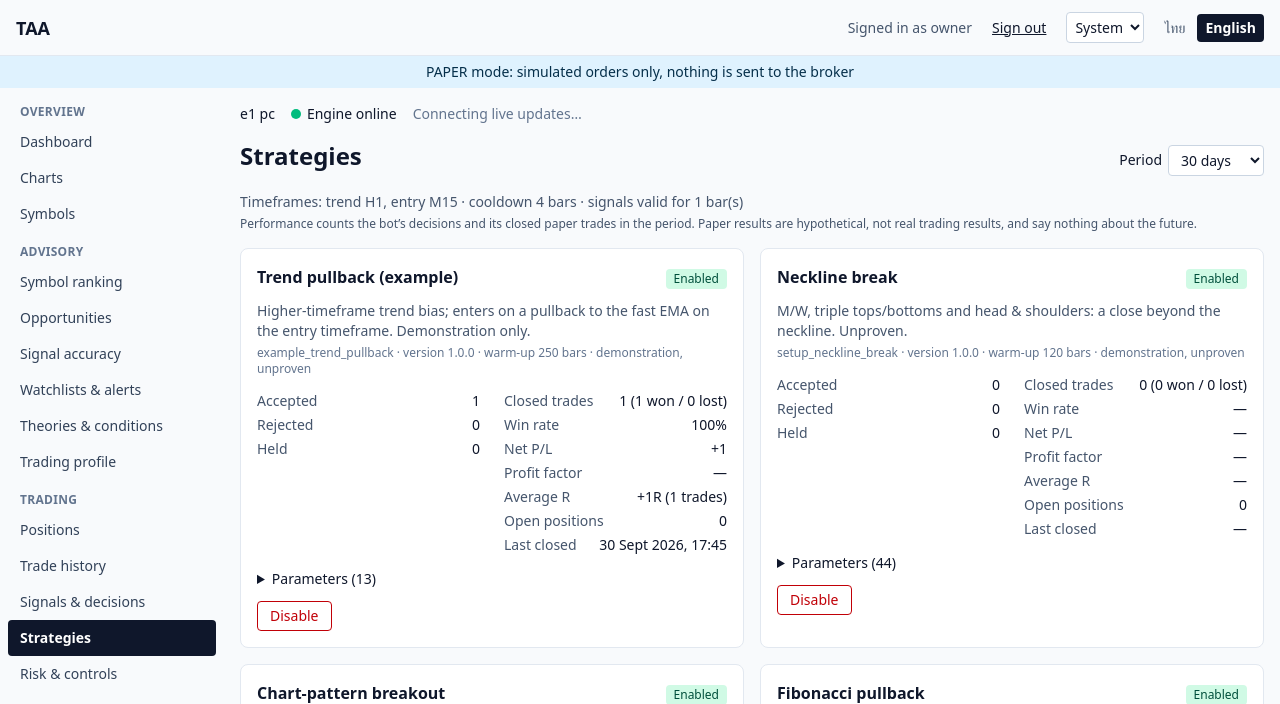
Scenario: strategies page › disables a strategy after a fresh authenticator code
Expected: the element "Trend pullback (example)" shows "example_trend_pullback", [257,344,683,376]
Click the button "Disable" below "Parameters (13)" at [294, 616], box [257,600,332,630]
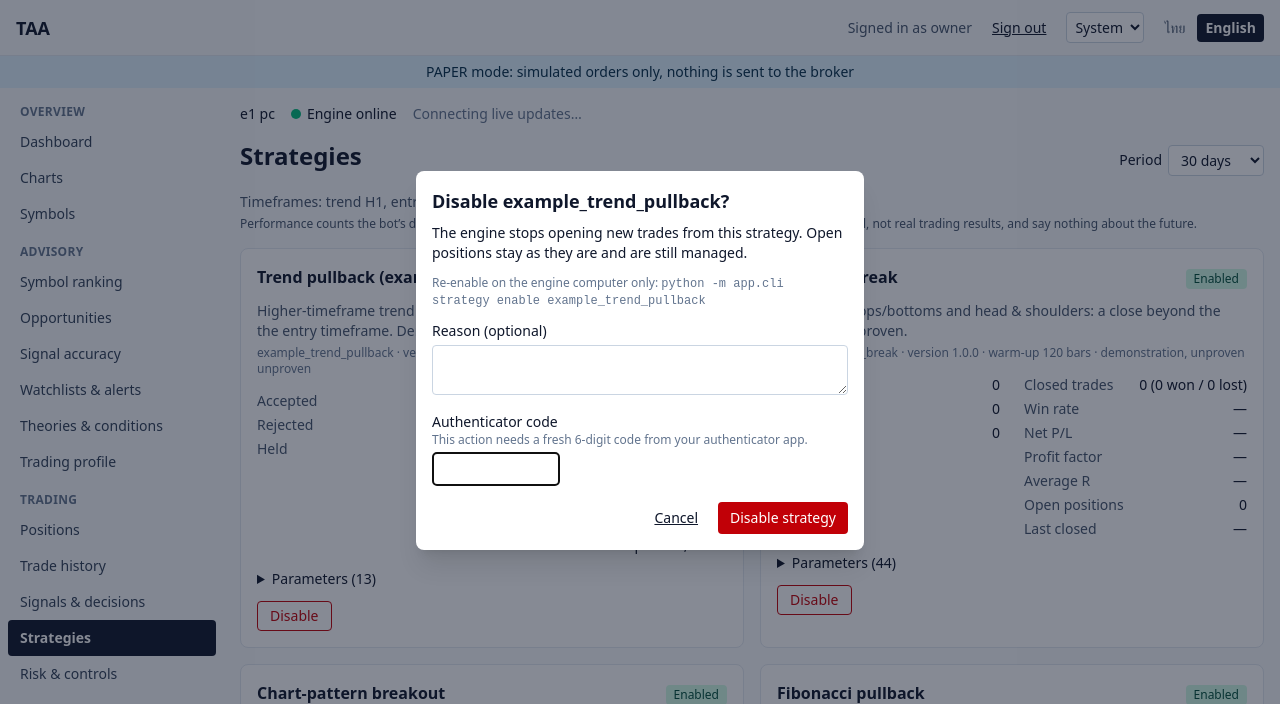
Type " too many losses " into the text box labelled "Reason (optional)" at [640, 370], box [432,344,848,394]
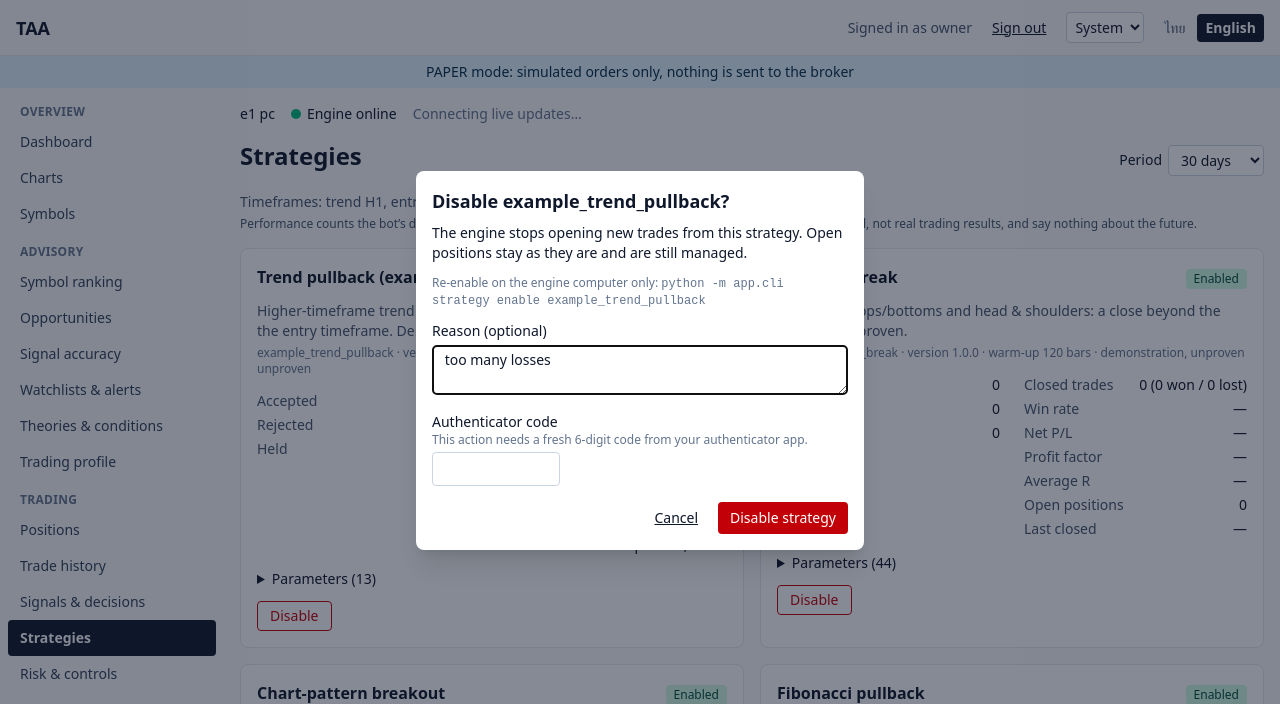
Click the button "Disable strategy" at [783, 518], box [718,502,848,534]
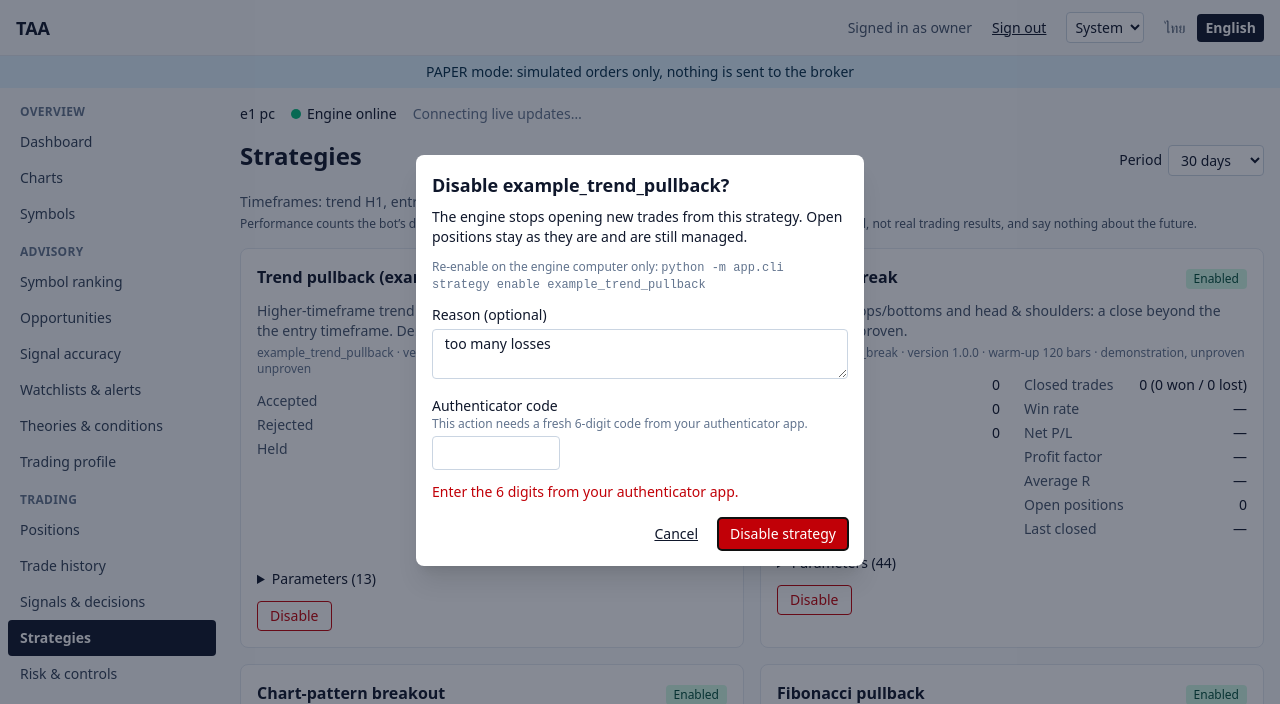
Type "123456" into the field labelled "Authenticator code" at [496, 452], box [432,436,560,470]
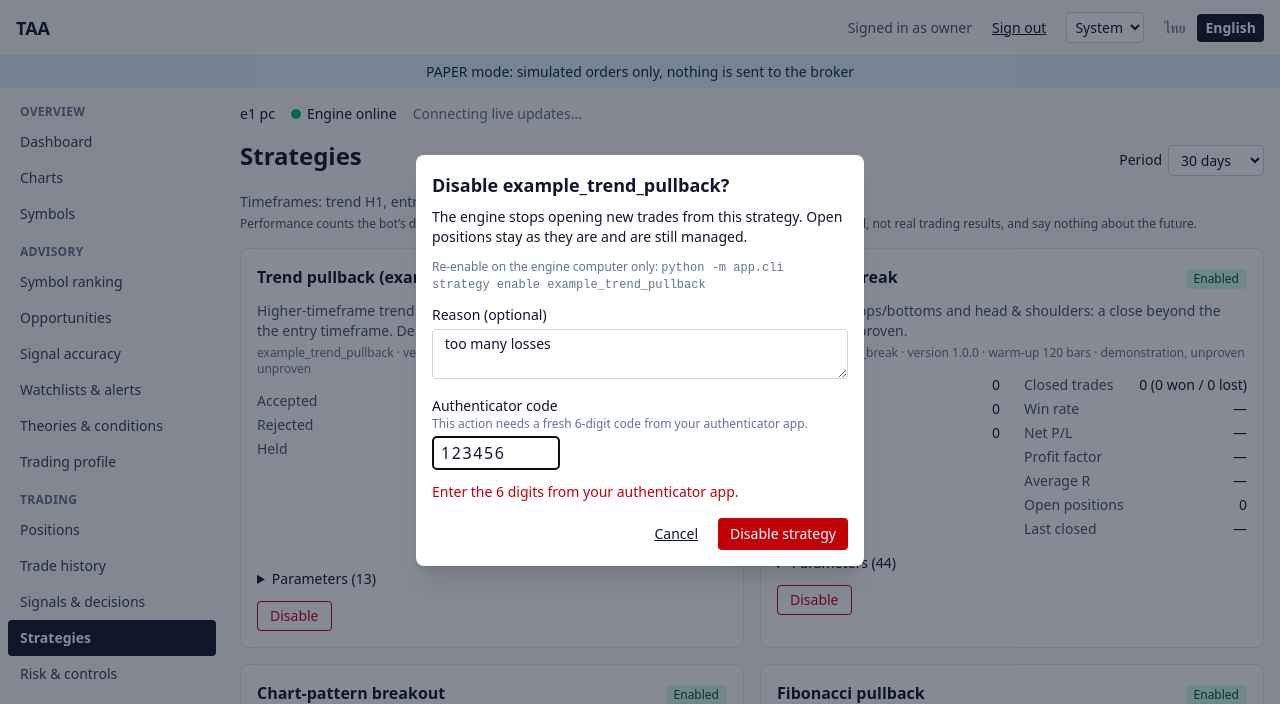
Click the button "Disable strategy" at [783, 534], box [718,518,848,550]
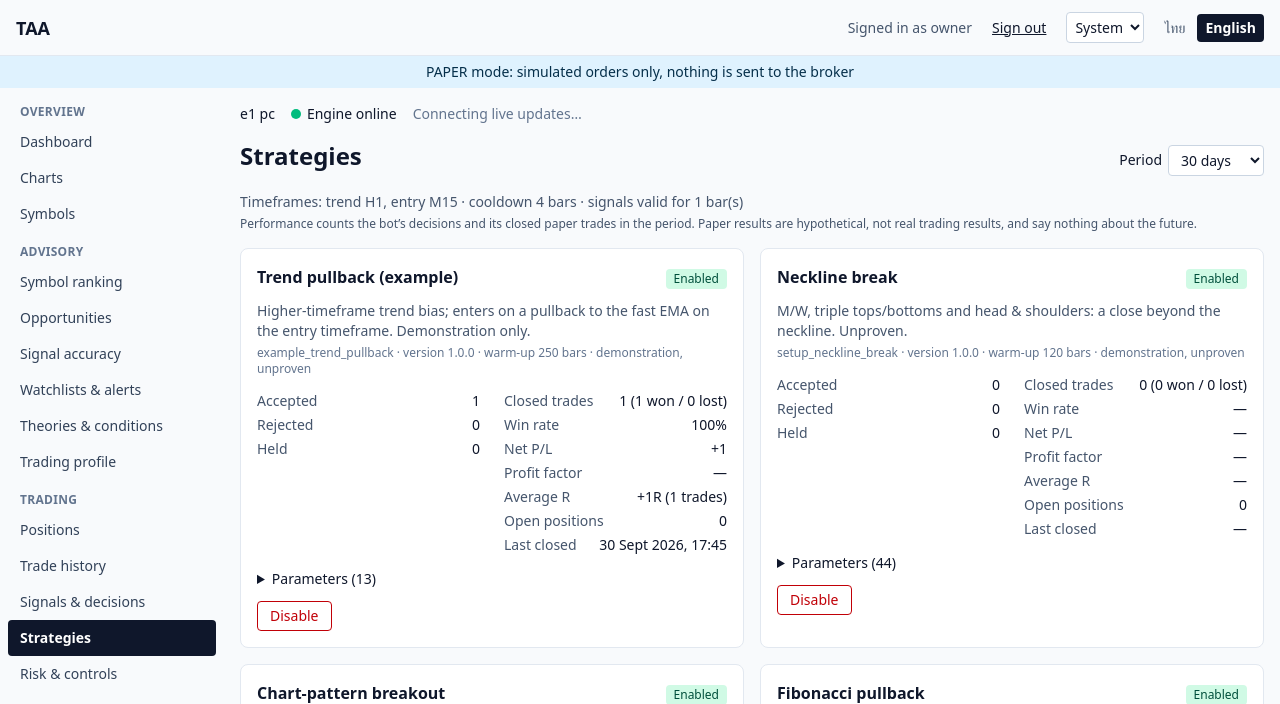
Expected: the dialog is gone
